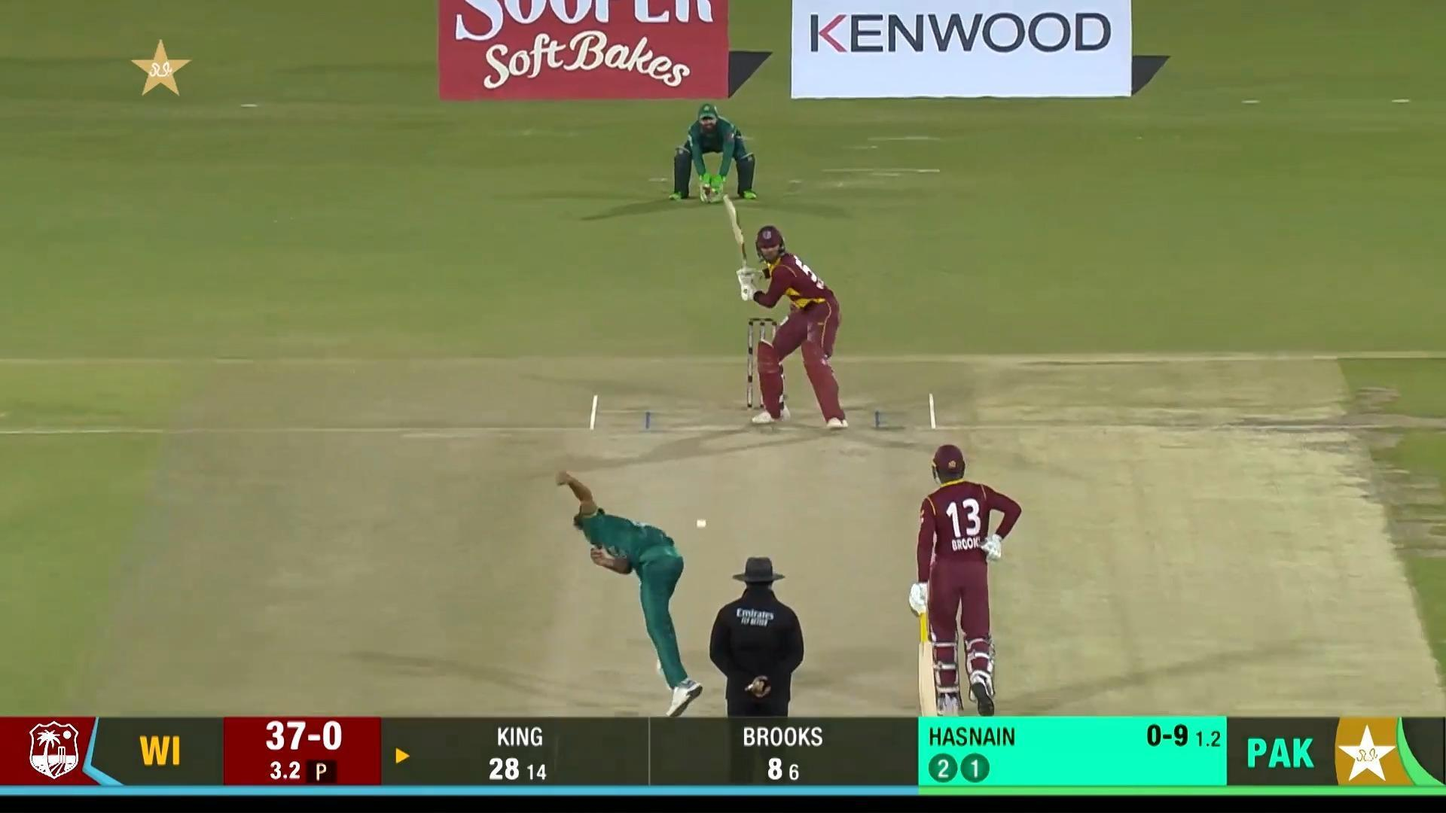BM 1: (723, 196, 849, 428)
BO: (552, 465, 705, 720)
